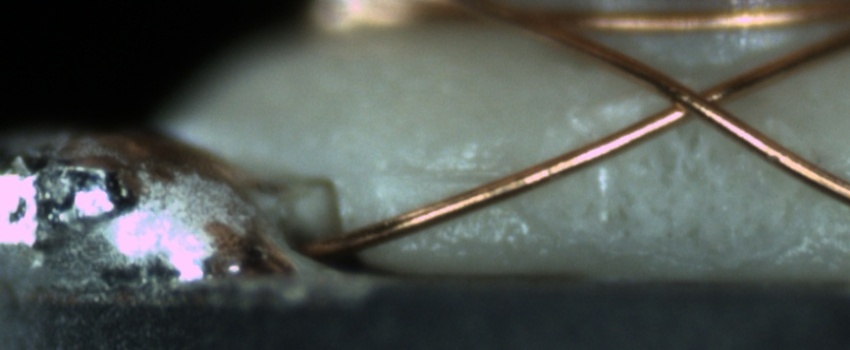CL: (643, 70, 744, 132)
DL: (376, 161, 490, 209)
